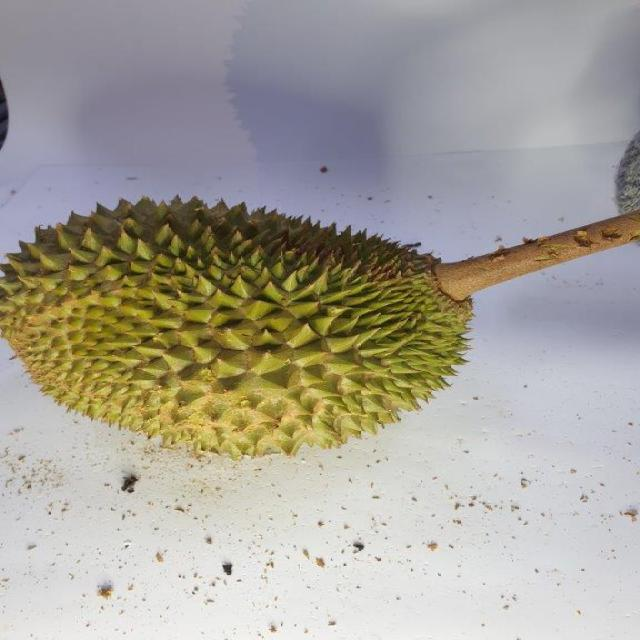immature: (0, 192, 479, 462)
